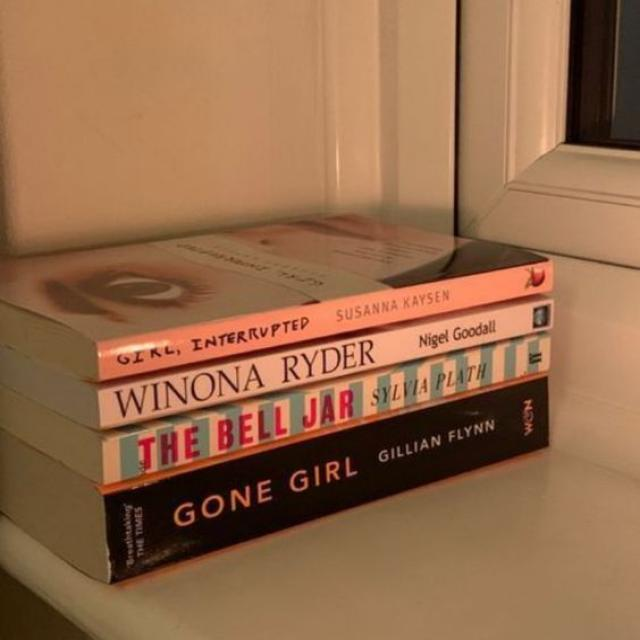book: (104, 377, 548, 581), (106, 336, 548, 479), (96, 300, 551, 428), (96, 260, 551, 381)
